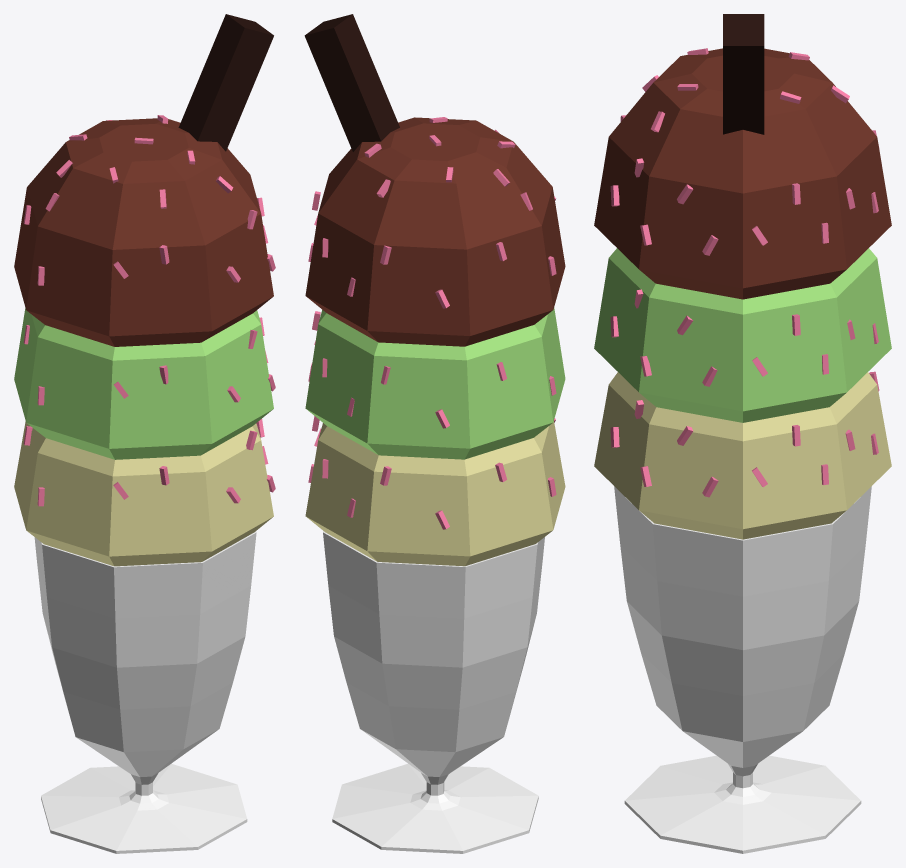
The model's file is parfait.fbx.
3 views of the same model, side by side, from view 1: azimuth 30°, elevation 25°; view 2: azimuth 150°, elevation 25°; view 3: azimuth 270°, elevation 25° (orthographic). The views are drawn at different scales.
Visible parts, largest first — view 1: parfait; view 2: parfait; view 3: parfait.
Boxes of the visible parts, left/top/right/bottom form: parfait: left=14, top=14, right=275, bottom=853; parfait: left=304, top=14, right=565, bottom=853; parfait: left=594, top=14, right=891, bottom=853.
Bounding box in the file's own units: 104 × 318 × 102.
